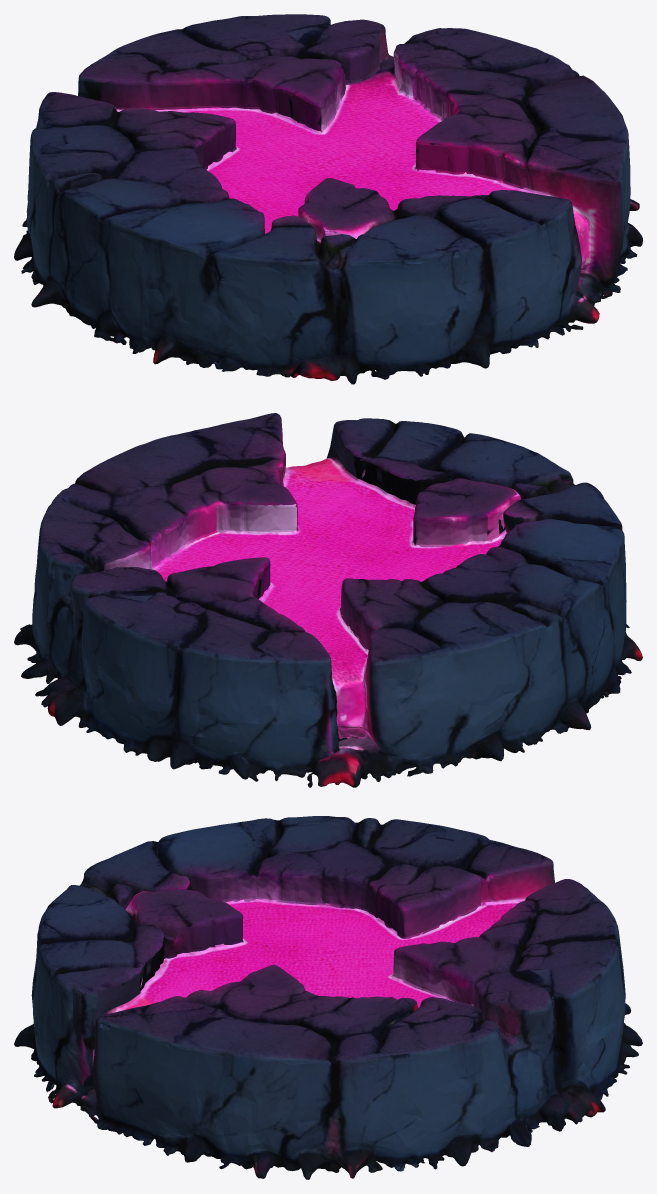
Rendered from world-root-basin-generated-2026-04-19T16-38-34-252Z.high.glb.
3 views of the same model, one above another, from view 1: azimuth 30°, elevation 25°; view 2: azimuth 150°, elevation 25°; view 3: azimuth 270°, elevation 25° (orthographic). The views are drawn at different scales.
Parts seen in each view (by area): view 1: temp_mesh.ply; view 2: temp_mesh.ply; view 3: temp_mesh.ply.
Part boxes in pixels (x1,y1,x2,y2): temp_mesh.ply: (14,14,642,384); temp_mesh.ply: (14,413,642,787); temp_mesh.ply: (14,816,642,1179).
Size of the model in its own units: 1.97 by 0.4128 by 1.97.
Materials: 1 (1 with a texture image).
